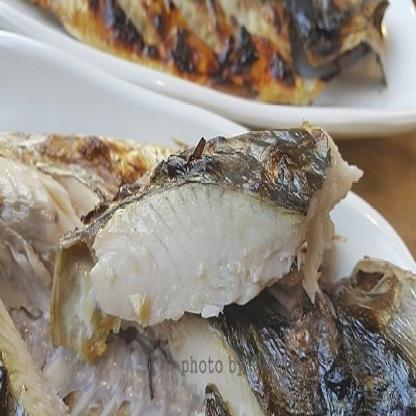Peixe: (0, 117, 416, 416), (0, 0, 402, 96)
